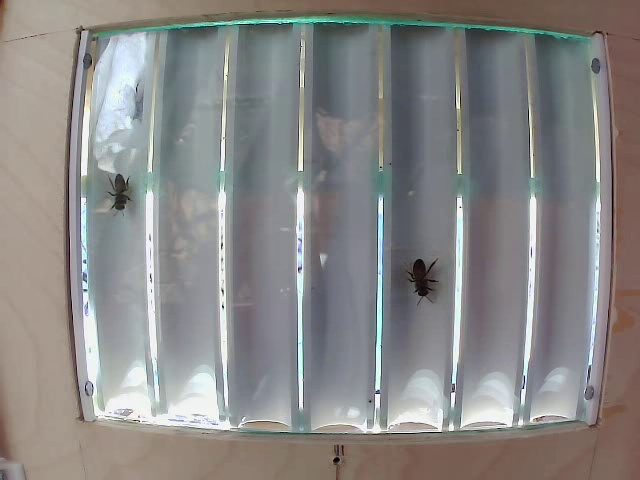bee: (403, 253, 446, 308), (101, 172, 145, 220)
